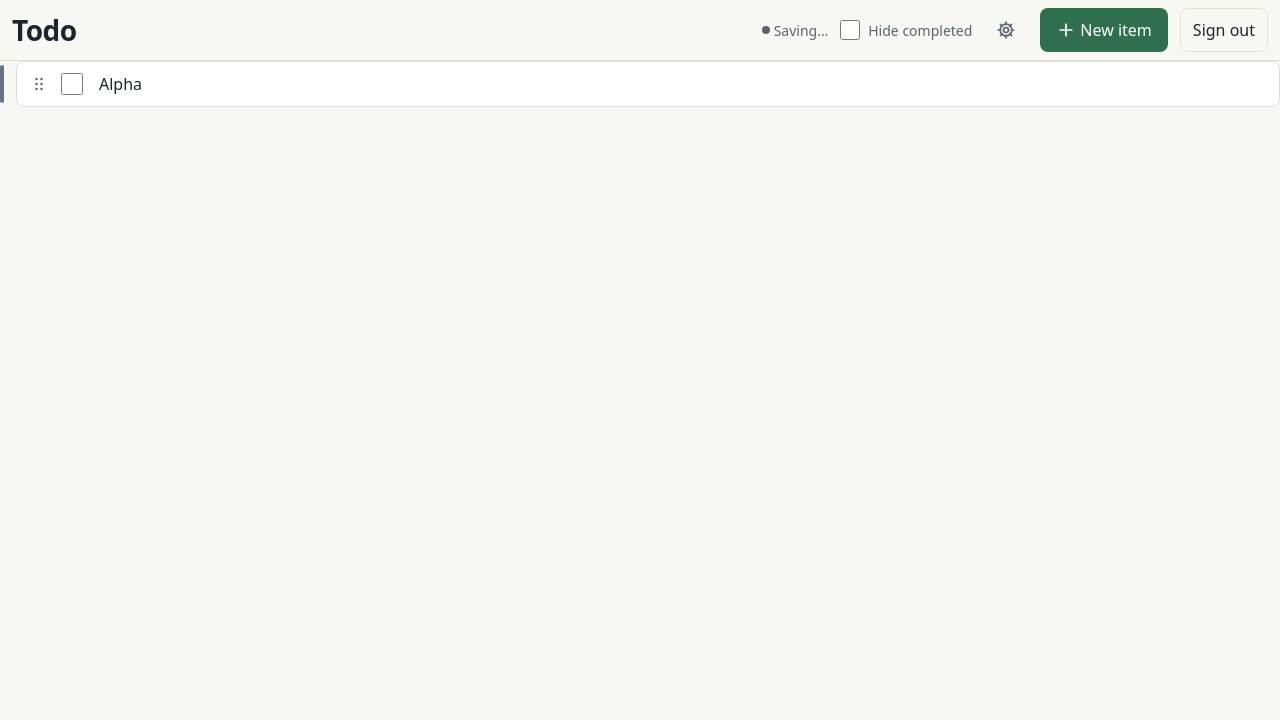
Test: unsaved-changes prompt across editors › displacing a dirty editor asks first and Discard opens the requested one
Click the button "Alpha" at (121, 84), box [91,62,1279,106]
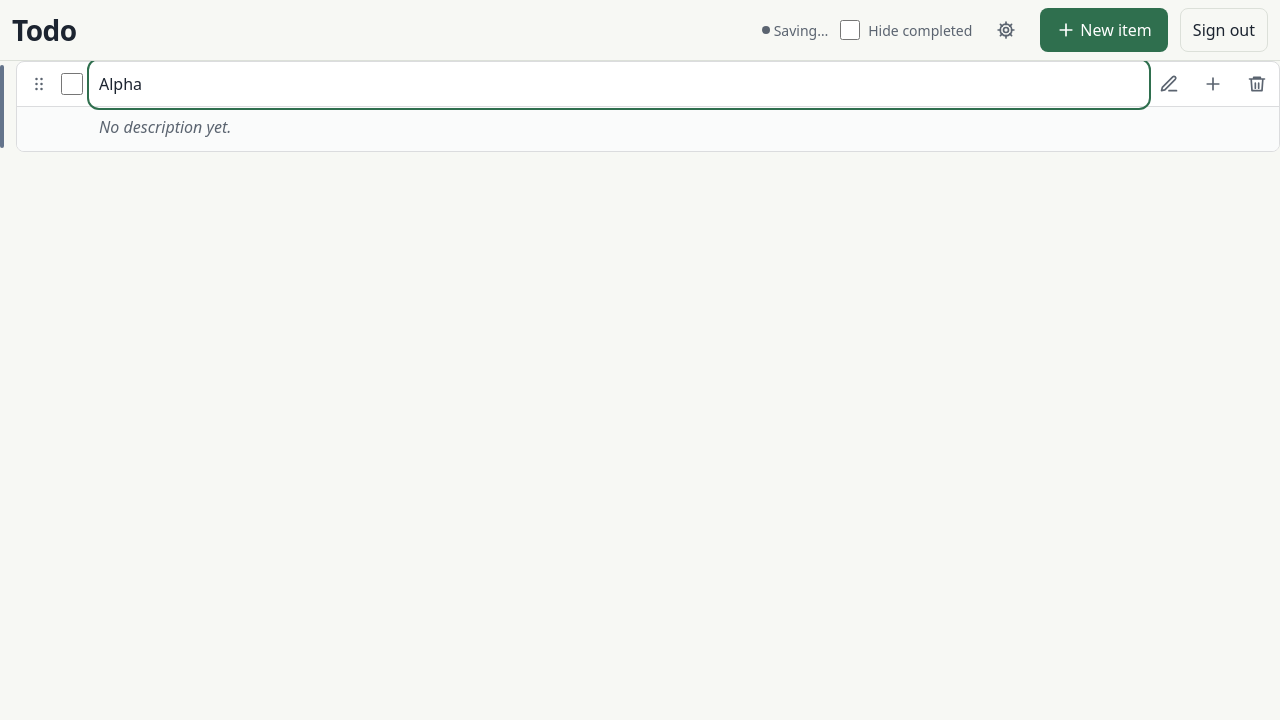
Click the button named "Edit Alpha" at (1169, 84), box [1147,62,1191,106]
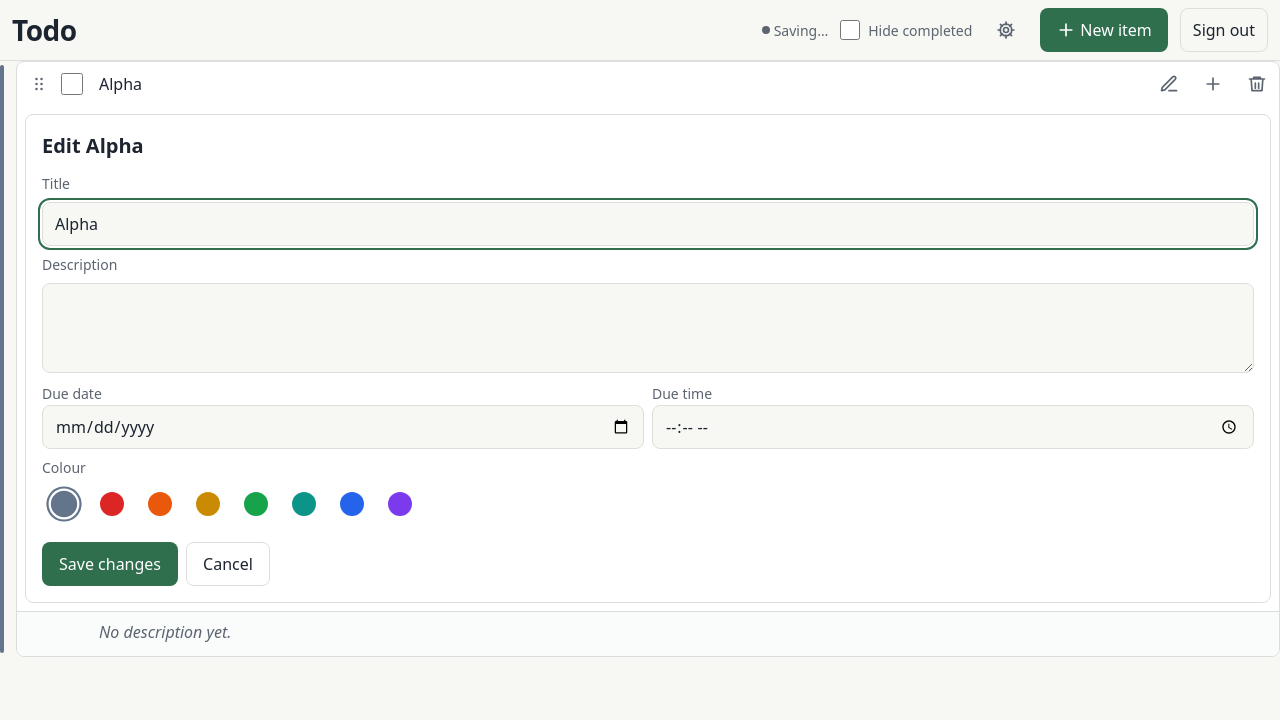
Type "!" into the field labelled "Title" at (648, 224), box [42,202,1254,246]
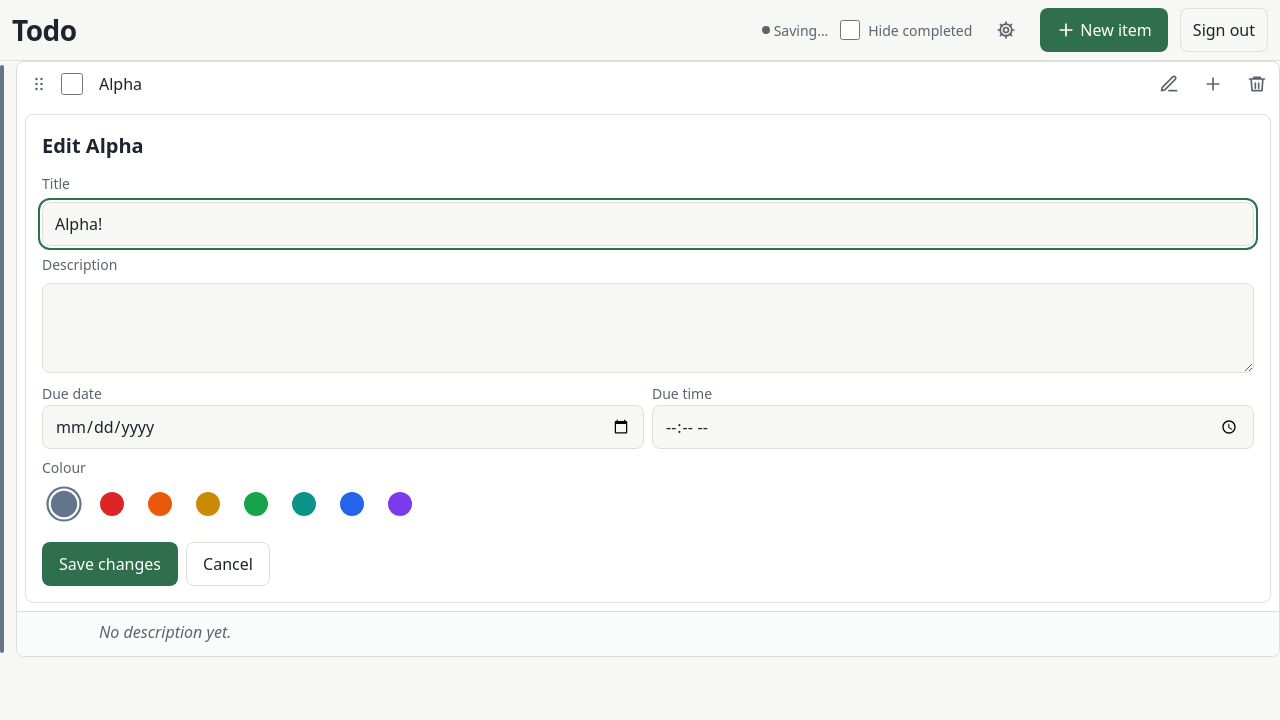
Click the button named "Add item under Alpha" at (1213, 84), box [1191,62,1235,106]
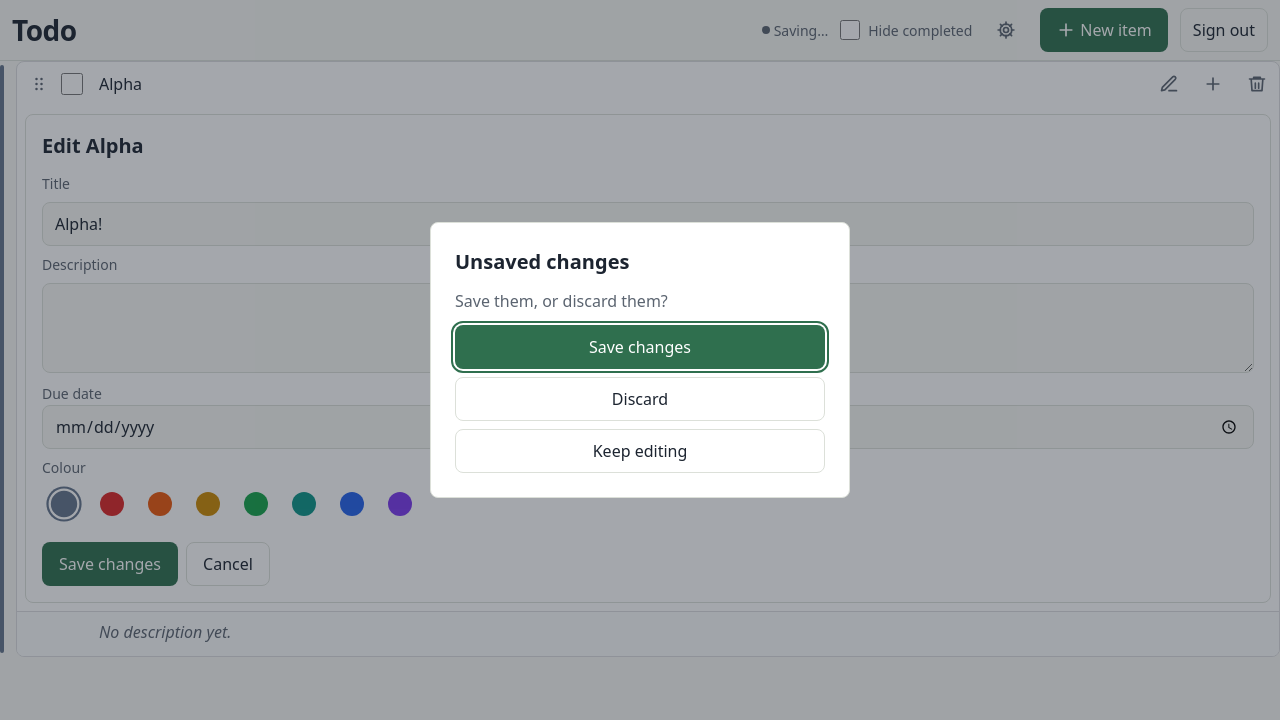
Expected: the form "New item under Alpha" is not shown
Expected: the form "Edit Alpha" is shown
Expected: the dialog "Unsaved changes" is shown, [430,222,850,498]
Click the button "Discard" at (640, 399), box [455,377,825,421]
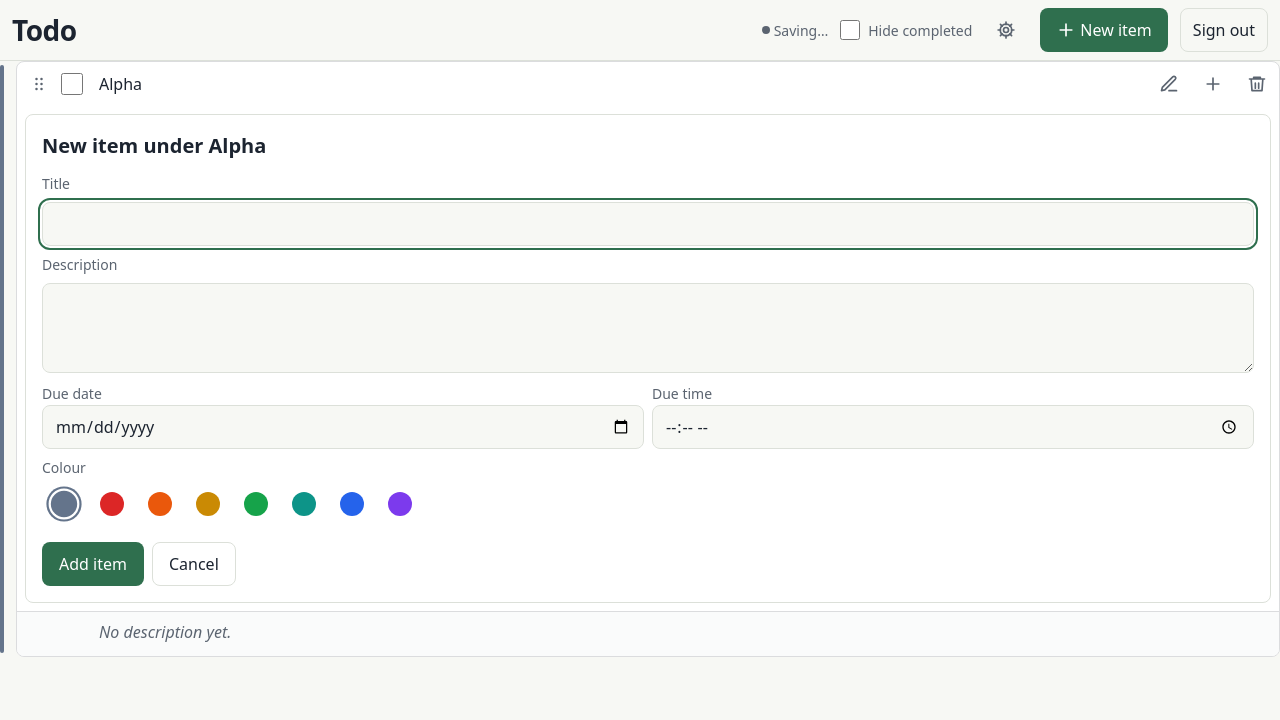
Expected: the form "New item under Alpha" is shown
Expected: the heading "Edit Alpha" is gone
